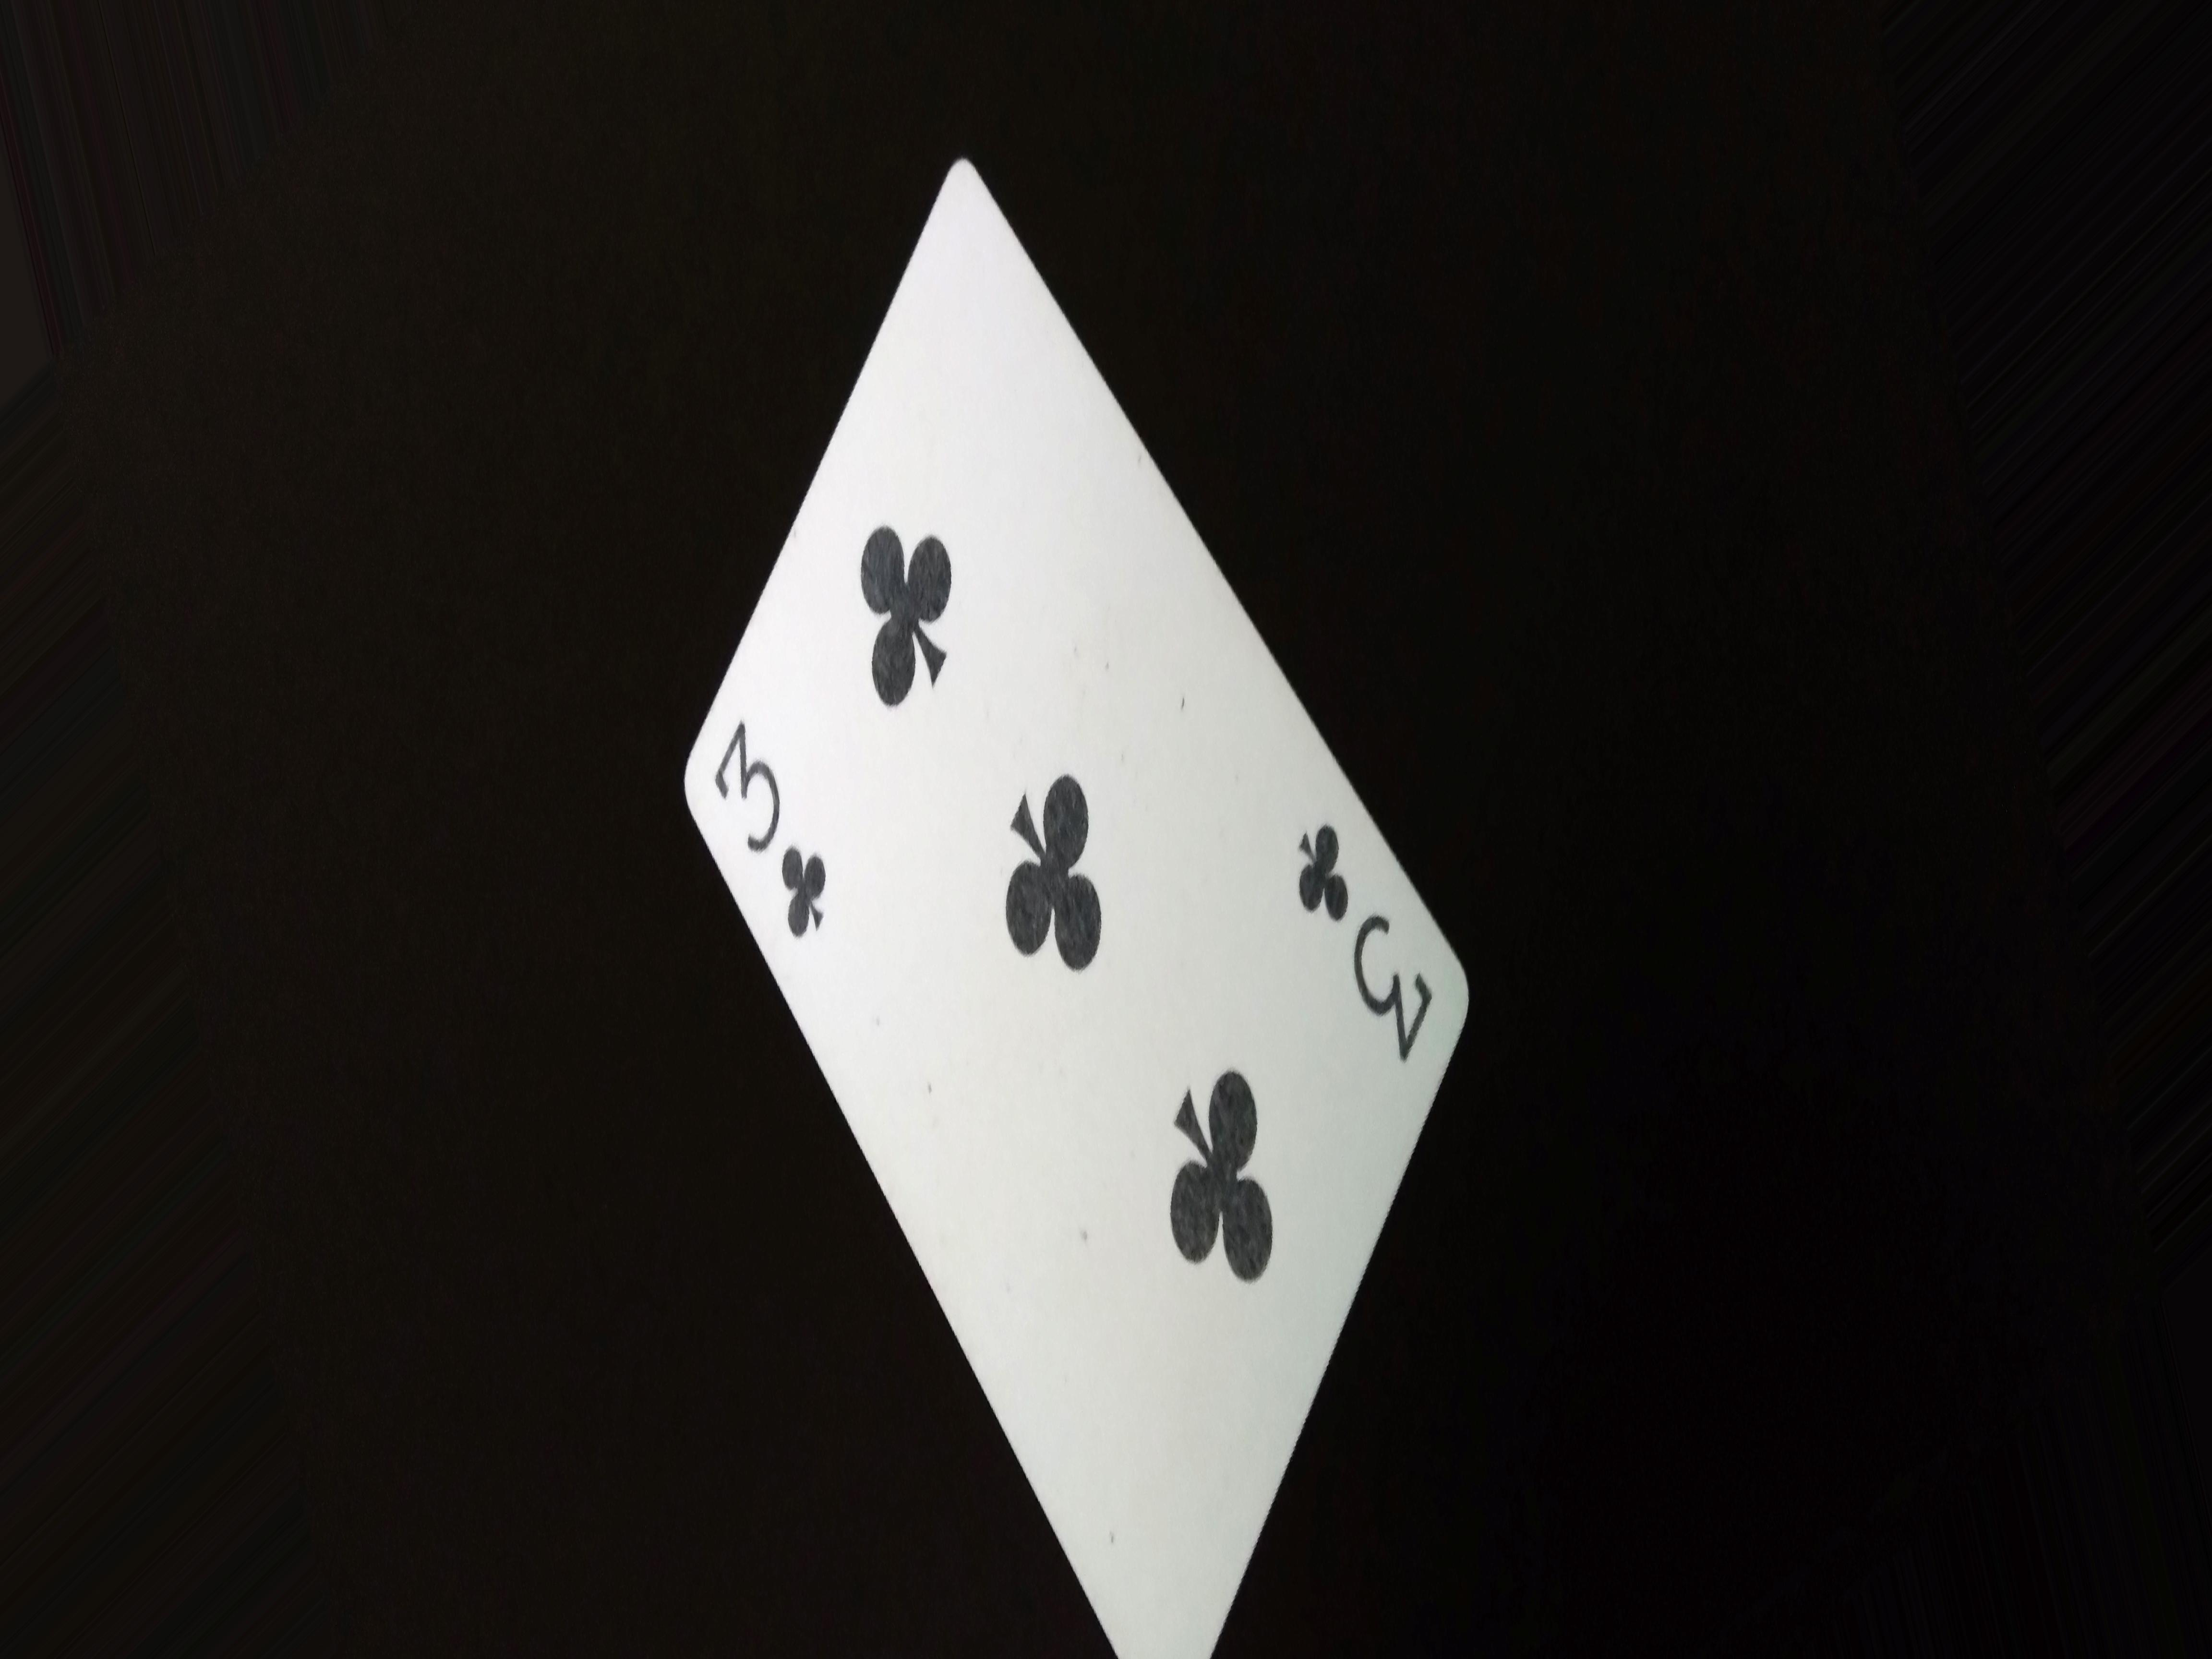3C: (1277, 805, 1461, 1068)
